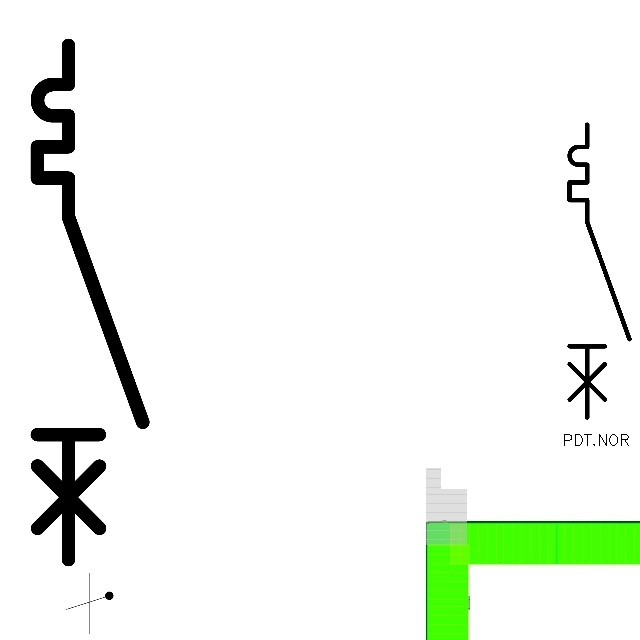interruptor_termomagnetico: (24, 32, 156, 572), (562, 117, 637, 425)
